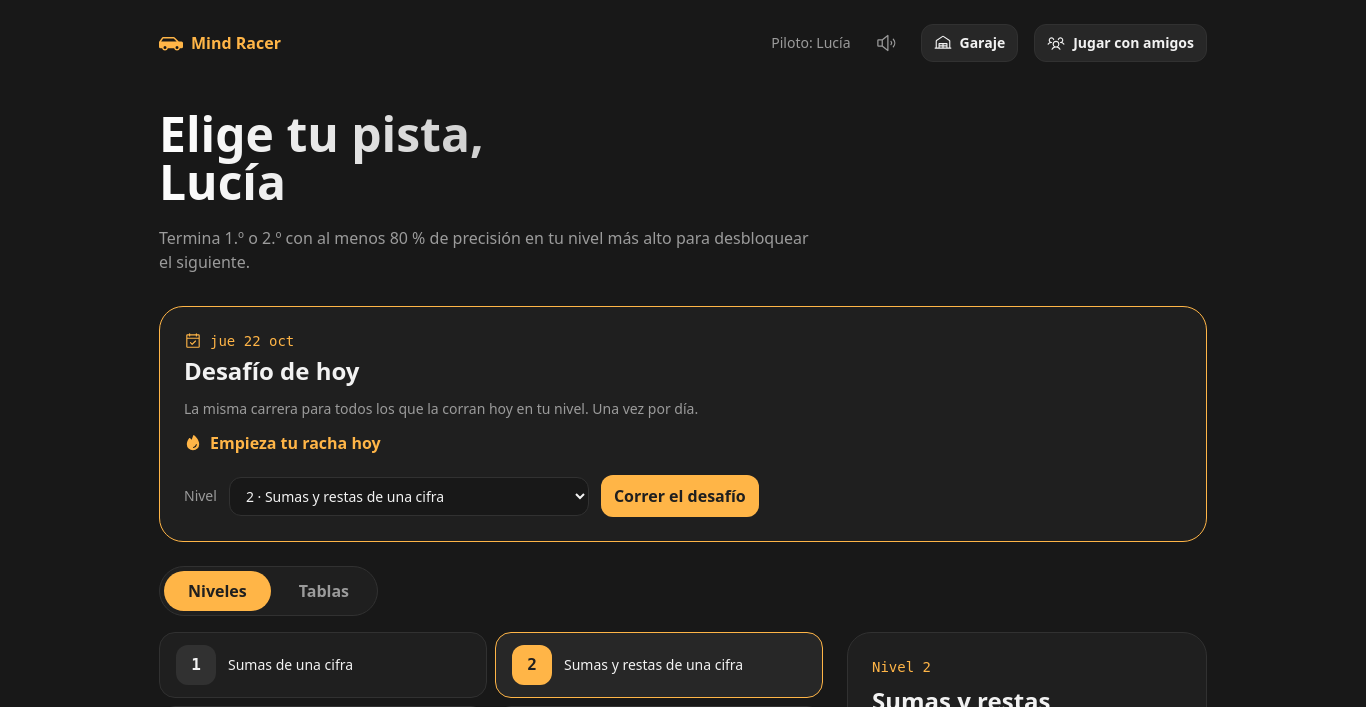
Jugar con amigos: crear y unirse › un código mal escrito se avisa sin enviar nada
Click the button "Jugar con amigos" at (1121, 43), box [1034,24,1207,62]
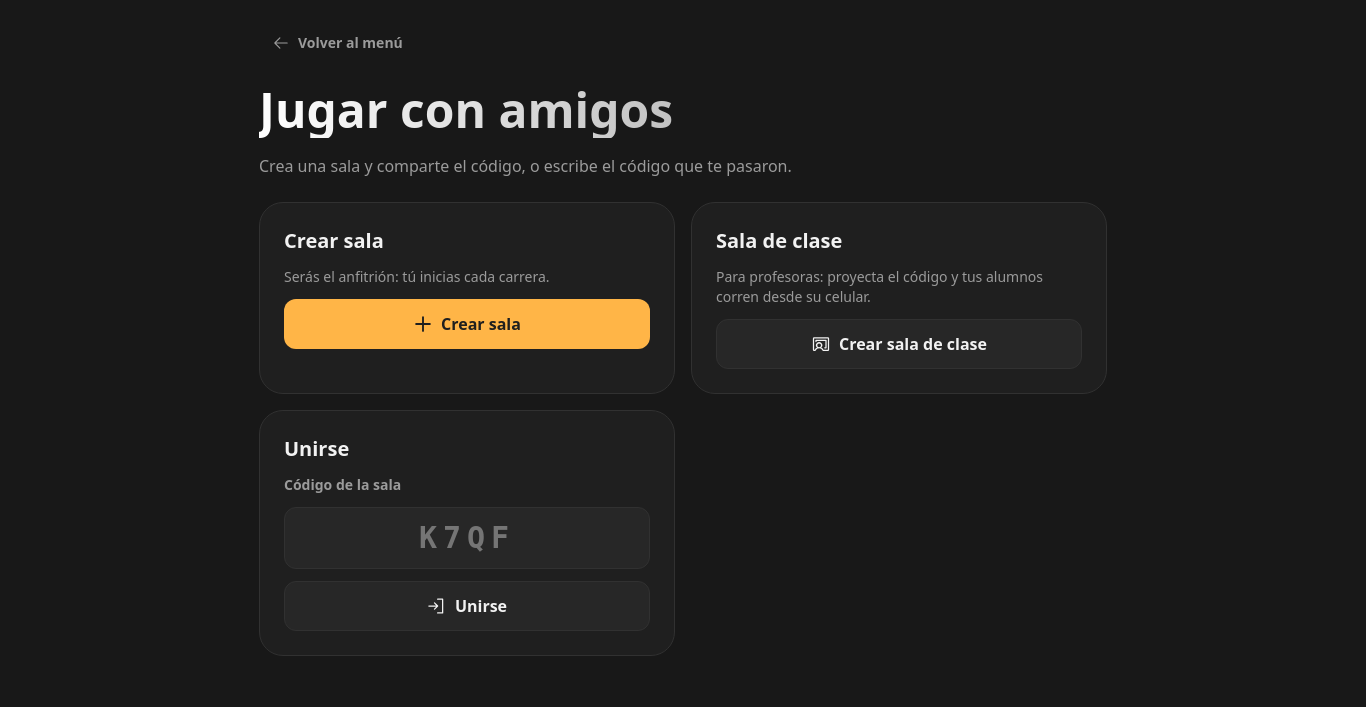
Type "K7" into the field labelled "Código de la sala" at (467, 538), box [284,507,650,569]
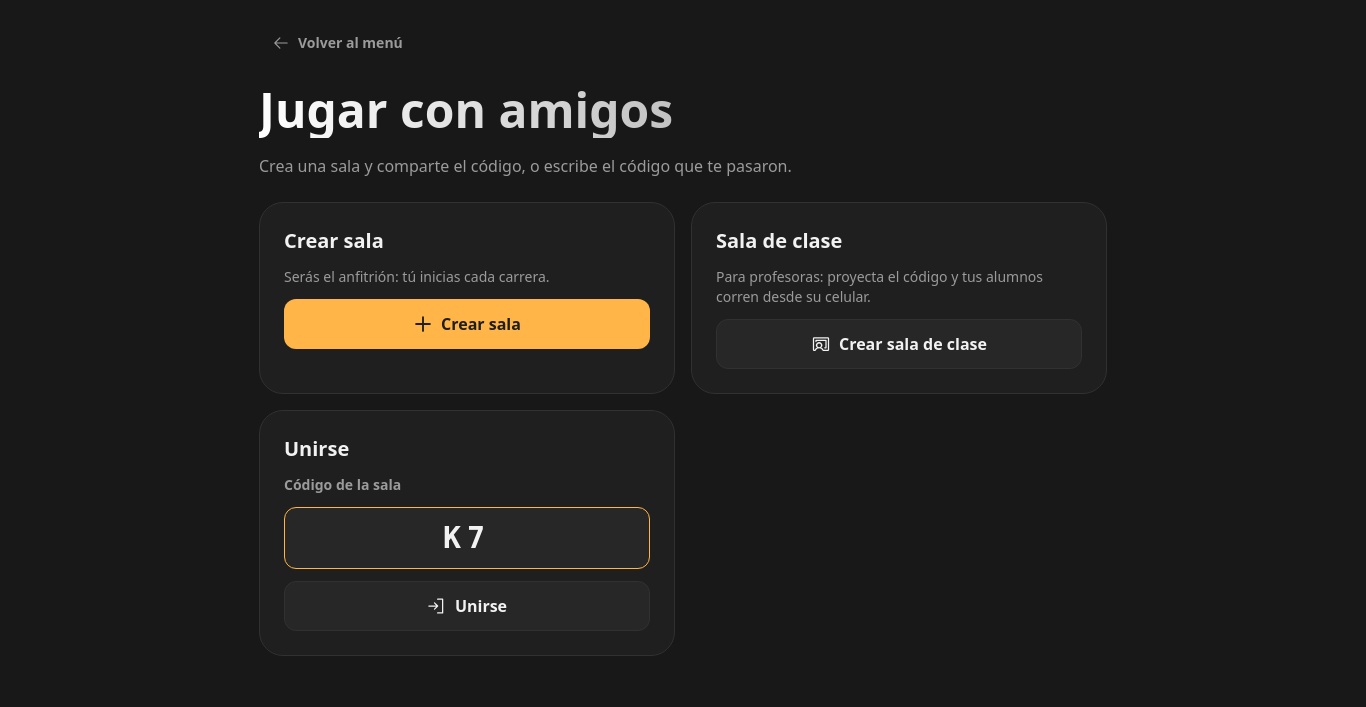
Click the button "Unirse" at (467, 606), box [284,581,650,631]
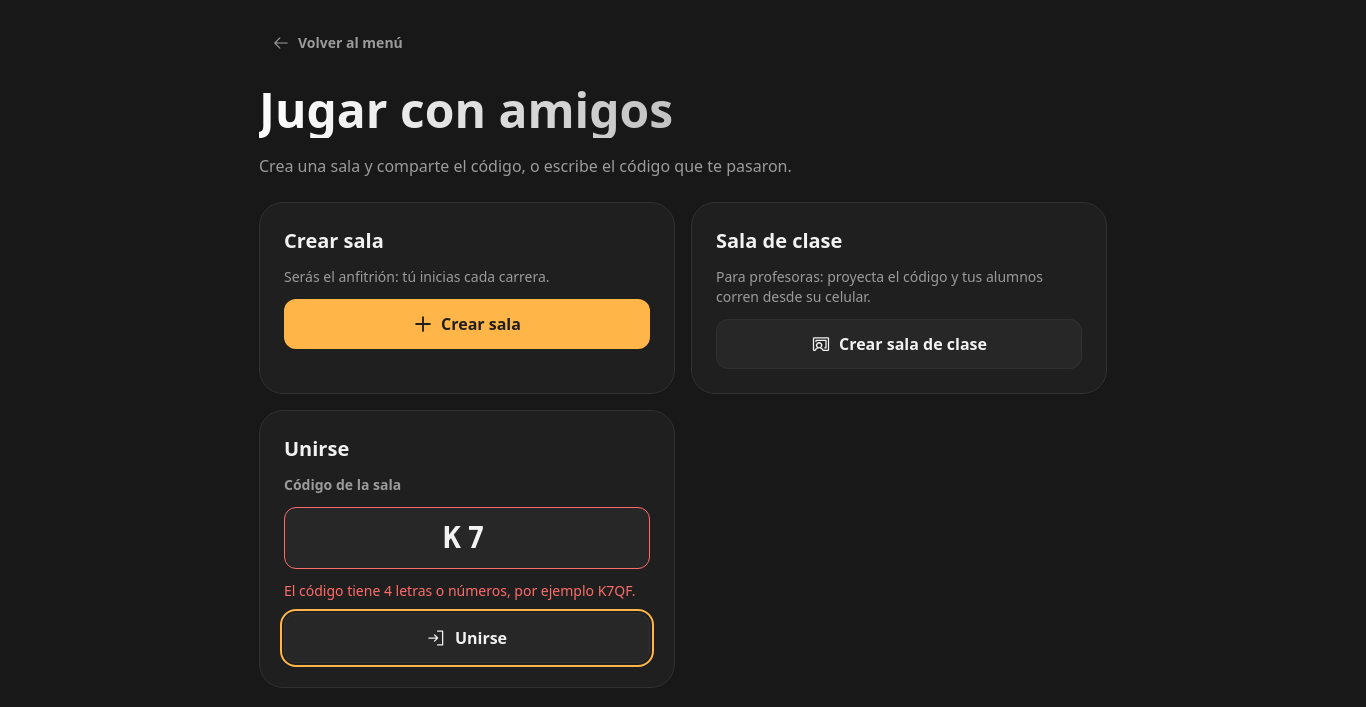
Result: the message shows "K7QF" at [284,581,635,600]
